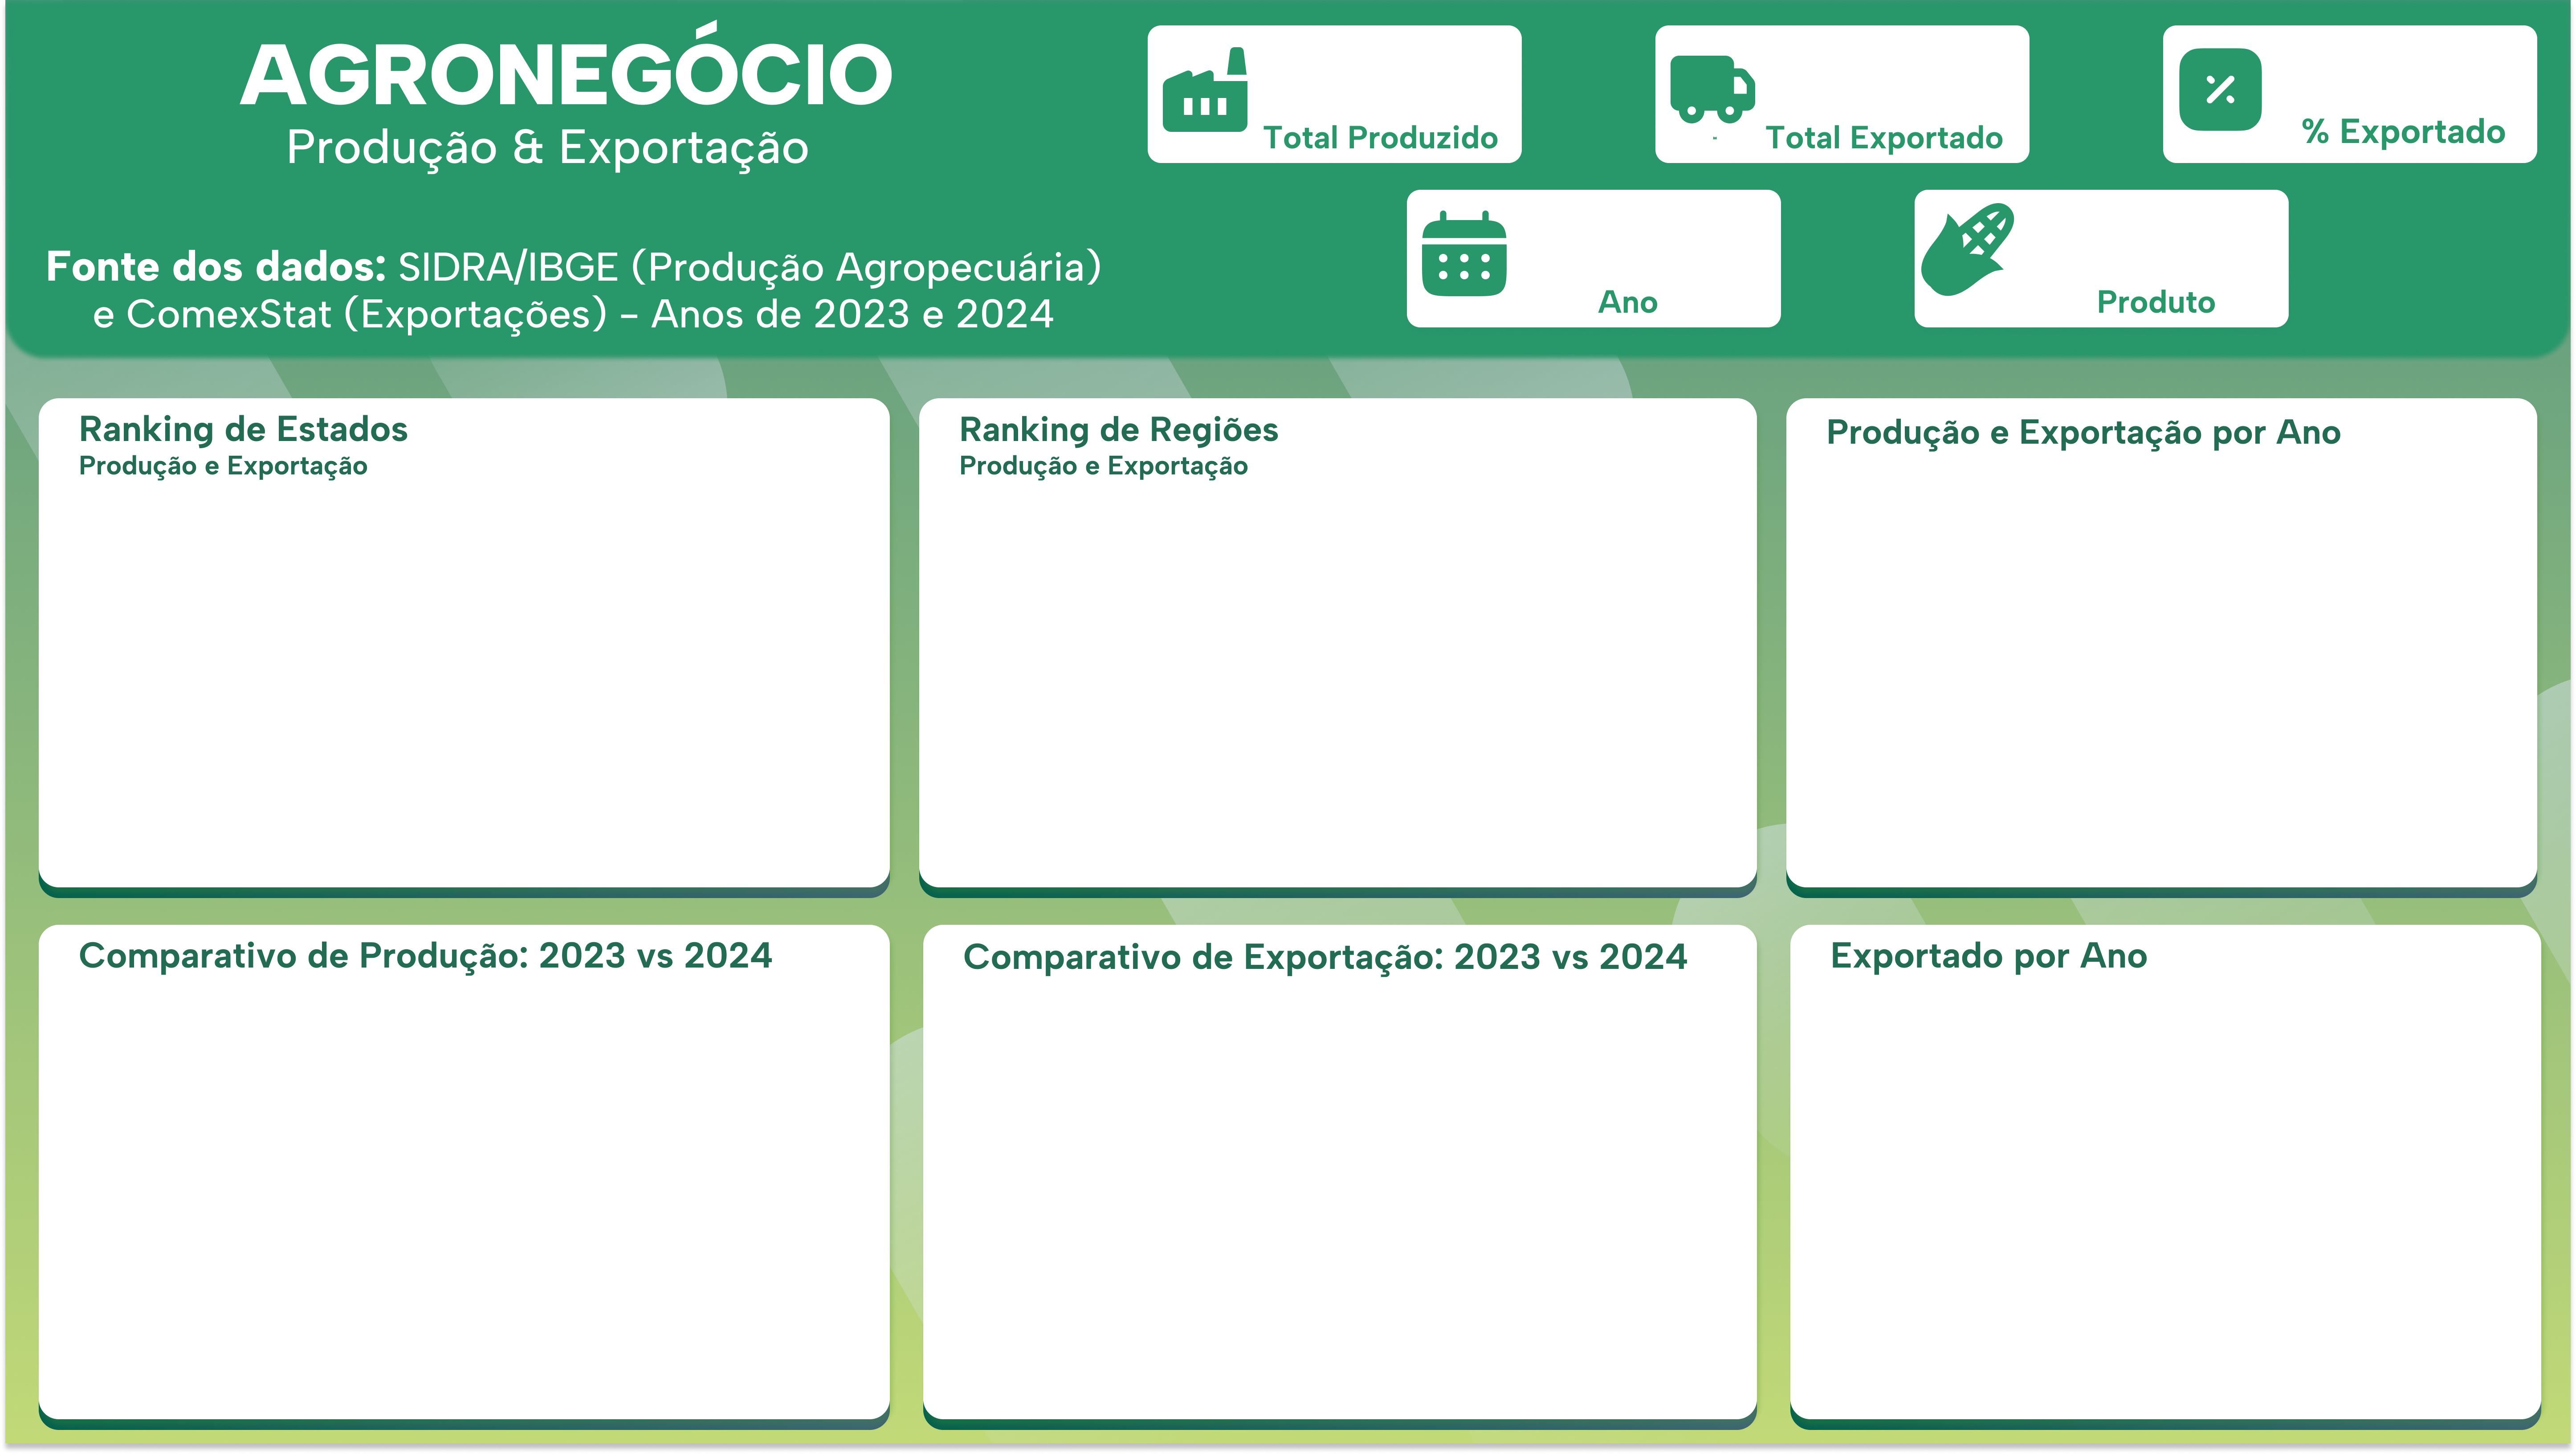

The page's visual inventory and layout, read from the dashboard file:
{"tool":"powerbi","page":{"name":"Página 1","canvas":[1280,720],"ordinal":0},"visuals":[{"type":"lineClusteredColumnComboChart","fields":{"Category":["projeto_exportacao_agro vw_evolucao_anual_producao_exportacao.ano"],"Y":["projeto_exportacao_agro vw_evolucao_anual_producao_exportacao.Total Produzido Ano","projeto_exportacao_agro vw_evolucao_anual_producao_exportacao.Total Exportado Ano"]},"box":[893.3,241.7,363.3,193.3],"z":0},{"type":"card","fields":{"Values":["projeto_exportacao_agro fatos_producao.% Exportado Formatado"]},"box":[975,550,96.7,90],"z":1000},{"type":"clusteredBarChart","title":"Ranking de","fields":{"Category":["RankingEstados.Estado"],"Y":["Sum(RankingEstados.total_produzido)","Sum(RankingEstados.total_exportado)"]},"box":[16.7,213.3,416.7,228.3],"z":2000},{"type":"columnChart","fields":{"Category":["RankingRegioes.Regiao"],"Y":["Sum(RankingRegioes.total_produzido)","Sum(RankingRegioes.total_exportado)"]},"box":[461.7,241.7,406.7,193.3],"z":3000},{"type":"lineChart","fields":{"Category":["EvolucaoAnualProducaoExportacao.ano"],"Y":["EvolucaoAnualProducaoExportacao.Produção"]},"box":[25,496.7,410,201.7],"z":4000},{"type":"lineChart","fields":{"Category":["EvolucaoAnualProducaoExportacao.ano"],"Y":["EvolucaoAnualProducaoExportacao.Exportação"]},"box":[461.7,496.7,406.7,201.7],"z":5000},{"type":"donutChart","fields":{"Category":["CategoriasExportacao.Categoria"],"Y":["FatosProducao.ValorExportacao"]},"box":[888.3,496.7,375,201.7],"z":6000},{"type":"slicer","fields":{"Values":["Produtos.Nome"]},"box":[1015.7,88.6,121.4,55.7],"z":7000},{"type":"slicer","fields":{"Values":["FatosProducao.Ano"]},"box":[757.1,88.6,127.1,57.1],"z":8000},{"type":"card","fields":{"Values":["FatosProducao.Total Produzido"]},"box":[617.1,4.3,138.6,57.1],"z":9000},{"type":"card","fields":{"Values":["FatosProducao.Total Exportado"]},"box":[871.4,5.7,140,52.9],"z":10000},{"type":"card","fields":{"Values":["FatosProducao.% Exportado"]},"box":[1130,7.1,125.7,50],"z":11000}]}

Visuals, with their boxes in screenshot pixels (x1, y1, x2, y2), scaled from the page's 1280x720 canvas onto the 2576x1454 screenshot:
lineClusteredColumnComboChart - projeto_exportacao_agro vw_evolucao_anual_producao_exportacao.ano x projeto_exportacao_agro vw_evolucao_anual_producao_exportacao.Total Produzido Ano: {"x1": 1798, "y1": 488, "x2": 2529, "y2": 878}
card - projeto_exportacao_agro fatos_producao.% Exportado Formatado: {"x1": 1962, "y1": 1111, "x2": 2157, "y2": 1292}
"Ranking de" clusteredBarChart: {"x1": 33, "y1": 431, "x2": 872, "y2": 892}
columnChart - RankingRegioes.Regiao x Sum(RankingRegioes.total_produzido): {"x1": 929, "y1": 488, "x2": 1748, "y2": 878}
lineChart - EvolucaoAnualProducaoExportacao.ano x EvolucaoAnualProducaoExportacao.Produção: {"x1": 50, "y1": 1003, "x2": 876, "y2": 1410}
lineChart - EvolucaoAnualProducaoExportacao.ano x EvolucaoAnualProducaoExportacao.Exportação: {"x1": 929, "y1": 1003, "x2": 1748, "y2": 1410}
donutChart - CategoriasExportacao.Categoria x FatosProducao.ValorExportacao: {"x1": 1788, "y1": 1003, "x2": 2543, "y2": 1410}
slicer - Produtos.Nome: {"x1": 2044, "y1": 179, "x2": 2288, "y2": 291}
slicer - FatosProducao.Ano: {"x1": 1524, "y1": 179, "x2": 1779, "y2": 294}
card - FatosProducao.Total Produzido: {"x1": 1242, "y1": 8, "x2": 1521, "y2": 124}
card - FatosProducao.Total Exportado: {"x1": 1754, "y1": 12, "x2": 2035, "y2": 118}
card - FatosProducao.% Exportado: {"x1": 2274, "y1": 14, "x2": 2527, "y2": 115}
